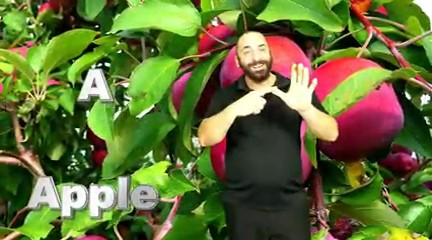A: (227, 58, 328, 123)
